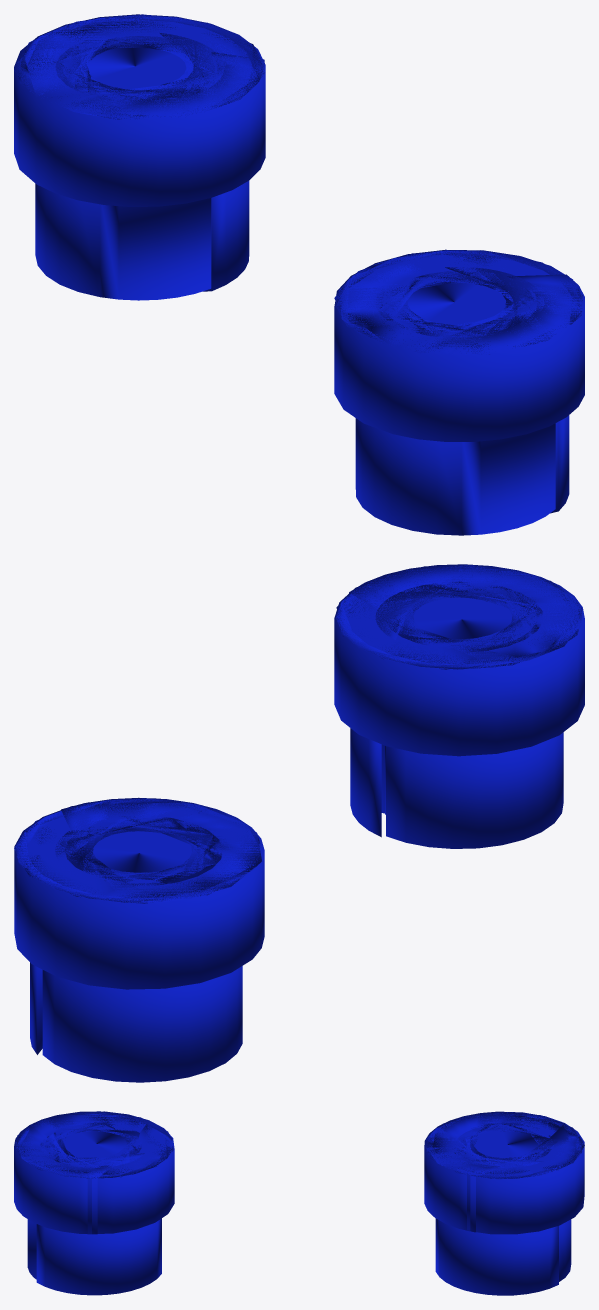
The model's file is tuyeau_element_000097.obj.
3 views of the same model, one above another, from view 1: azimuth 30°, elevation 25°; view 2: azimuth 150°, elevation 25°; view 3: azimuth 270°, elevation 25° (orthographic). The views are drawn at different scales.
Visible parts, largest first — view 1: tuyeau1_Cube.014, tuyeau2_Cube.017; view 2: tuyeau2_Cube.017, tuyeau1_Cube.014; view 3: tuyeau1_Cube.014, tuyeau2_Cube.017.
Part boxes in pixels (<box>): tuyeau1_Cube.014: <box>14,14,265,300</box>; tuyeau2_Cube.017: <box>334,249,584,535</box>; tuyeau2_Cube.017: <box>334,564,584,848</box>; tuyeau1_Cube.014: <box>14,797,264,1082</box>; tuyeau1_Cube.014: <box>424,1111,584,1295</box>; tuyeau2_Cube.017: <box>14,1111,174,1295</box>.
Size of the model in its own units: 3537 by 2917 by 12516.
